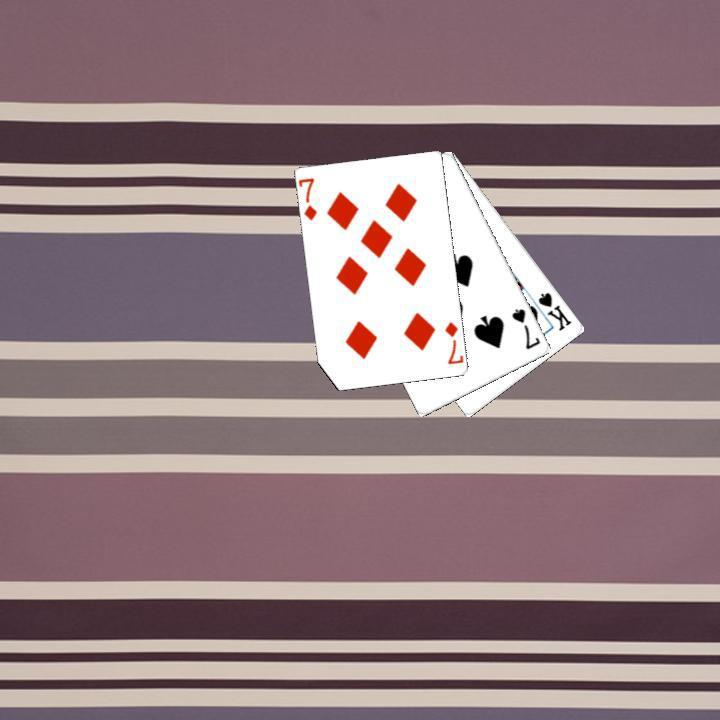7: (508, 304, 543, 351), (441, 317, 464, 367), (297, 174, 319, 223)
K: (534, 288, 574, 333)
